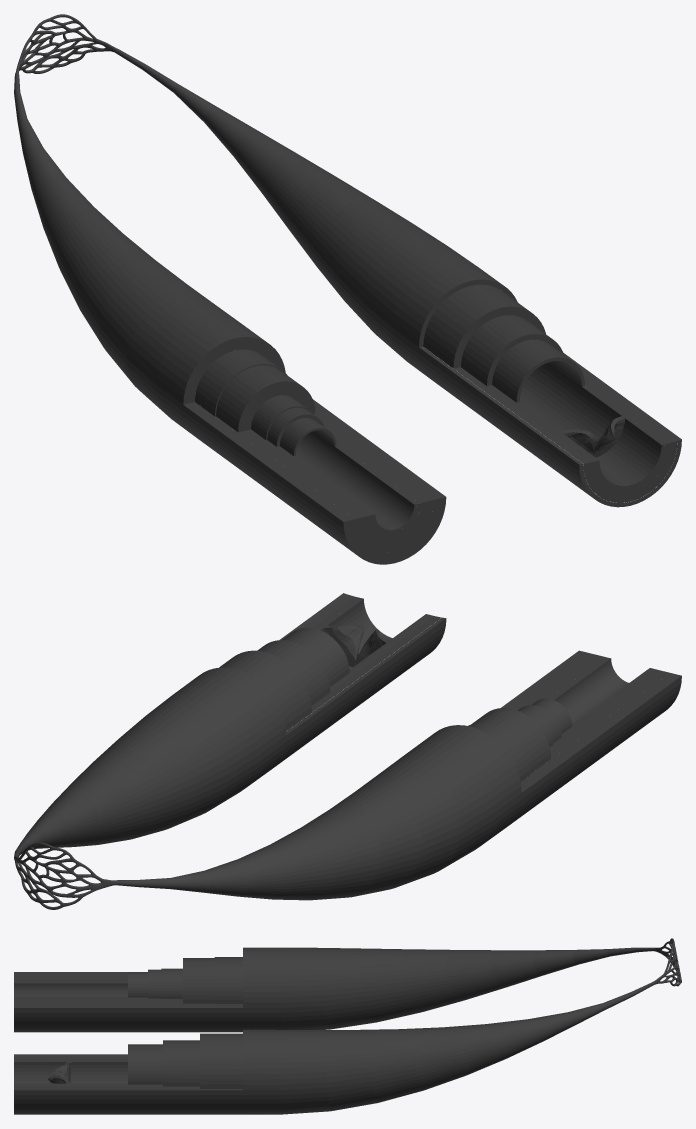
File: sharedassets103.glb
The picture shows the model from 3 angles, top to bottom: view 1: azimuth 30°, elevation 25°; view 2: azimuth 150°, elevation 25°; view 3: azimuth 270°, elevation 25°; orthographic projection. The views are drawn at different scales.
Parts seen in each view (by area): view 1: 0005_Tunica externa _adventitia__artery_20002, 0000_Tunica externa _adventitia__vein_200027, 0003_Endothelium _tunica intima__vein_200021, 0007_Smooth muscle _tunica media__artery_2000, 0001_Smooth muscle _tunica media__vein_200025, 0009_Endothelium _tunica intima__artery_20001, 0004_Subendothelial layer _tunica intima__vei, 0006_External elastic membrane _tunica media_, 0012_Capillary network__200006, 0008_Subendothelial layer _tunica intima__art, 0013_Internal elastic membrane _tunica intima, 0002_Valves_vein_200028; view 2: 0005_Tunica externa _adventitia__artery_20002, 0000_Tunica externa _adventitia__vein_200027, 0007_Smooth muscle _tunica media__artery_2000, 0001_Smooth muscle _tunica media__vein_200025, 0003_Endothelium _tunica intima__vein_200021, 0009_Endothelium _tunica intima__artery_20001, 0004_Subendothelial layer _tunica intima__vei, 0012_Capillary network__200006, 0006_External elastic membrane _tunica media_, 0002_Valves_vein_200028, 0008_Subendothelial layer _tunica intima__art, 0013_Internal elastic membrane _tunica intima (+1 smaller); view 3: 0005_Tunica externa _adventitia__artery_20002, 0000_Tunica externa _adventitia__vein_200027, 0003_Endothelium _tunica intima__vein_200021, 0001_Smooth muscle _tunica media__vein_200025, 0007_Smooth muscle _tunica media__artery_2000, 0004_Subendothelial layer _tunica intima__vei, 0009_Endothelium _tunica intima__artery_20001, 0006_External elastic membrane _tunica media_, 0013_Internal elastic membrane _tunica intima, 0008_Subendothelial layer _tunica intima__art, 0012_Capillary network__200006, 0002_Valves_vein_200028.
Part boxes in pixels (x1,y1,x2,y2): 0005_Tunica externa _adventitia__artery_20002: [14, 90, 446, 564]; 0000_Tunica externa _adventitia__vein_200027: [142, 64, 681, 507]; 0003_Endothelium _tunica intima__vein_200021: [423, 339, 664, 489]; 0007_Smooth muscle _tunica media__artery_2000: [216, 365, 433, 550]; 0001_Smooth muscle _tunica media__vein_200025: [423, 284, 677, 502]; 0009_Endothelium _tunica intima__artery_20001: [280, 418, 416, 532]; 0004_Subendothelial layer _tunica intima__vei: [461, 315, 669, 495]; 0006_External elastic membrane _tunica media_: [195, 349, 434, 552]; 0012_Capillary network__200006: [22, 14, 93, 73]; 0008_Subendothelial layer _tunica intima__art: [267, 407, 419, 535]; 0013_Internal elastic membrane _tunica intima: [251, 395, 420, 536]; 0002_Valves_vein_200028: [560, 416, 624, 457]; 0005_Tunica externa _adventitia__artery_20002: [138, 650, 681, 900]; 0000_Tunica externa _adventitia__vein_200027: [16, 593, 446, 854]; 0007_Smooth muscle _tunica media__artery_2000: [471, 654, 668, 773]; 0001_Smooth muscle _tunica media__vein_200025: [219, 594, 441, 731]; 0003_Endothelium _tunica intima__vein_200021: [282, 598, 428, 686]; 0009_Endothelium _tunica intima__artery_20001: [531, 658, 651, 734]; 0004_Subendothelial layer _tunica intima__vei: [257, 597, 433, 705]; 0012_Capillary network__200006: [19, 842, 92, 909]; 0006_External elastic membrane _tunica media_: [468, 653, 669, 781]; 0002_Valves_vein_200028: [324, 624, 389, 667]; 0008_Subendothelial layer _tunica intima__art: [518, 657, 654, 743]; 0013_Internal elastic membrane _tunica intima: [519, 657, 655, 746]; 0005_Tunica externa _adventitia__artery_20002: [14, 947, 635, 1032]; 0000_Tunica externa _adventitia__vein_200027: [14, 992, 632, 1114]; 0003_Endothelium _tunica intima__vein_200021: [14, 1044, 162, 1084]; 0001_Smooth muscle _tunica media__vein_200025: [14, 1033, 242, 1088]; 0007_Smooth muscle _tunica media__artery_2000: [14, 958, 214, 1003]; 0004_Subendothelial layer _tunica intima__vei: [14, 1040, 199, 1086]; 0009_Endothelium _tunica intima__artery_20001: [14, 972, 147, 997]; 0006_External elastic membrane _tunica media_: [14, 957, 242, 1003]; 0013_Internal elastic membrane _tunica intima: [14, 968, 182, 998]; 0008_Subendothelial layer _tunica intima__art: [14, 969, 161, 998]; 0012_Capillary network__200006: [664, 938, 681, 986]; 0002_Valves_vein_200028: [48, 1062, 70, 1083].
Bounding box in the file's own units: 0.318 × 0.1621 × 0.7598.
1 material, 1 textured.
